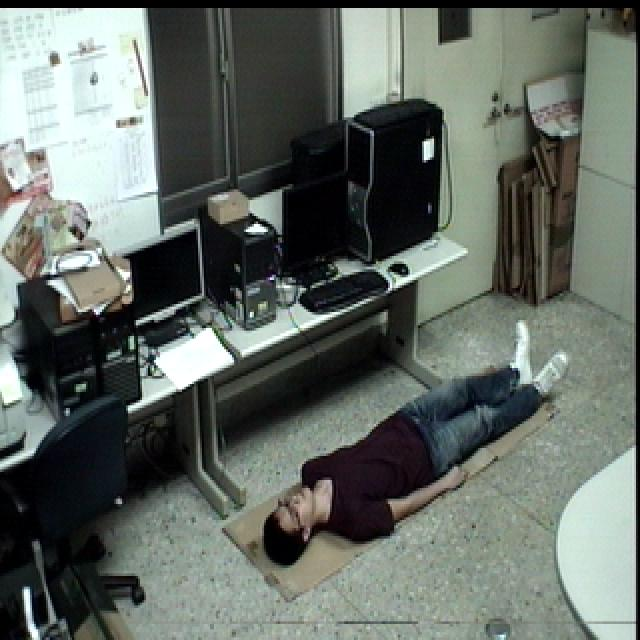lie: (258, 314, 575, 571)
